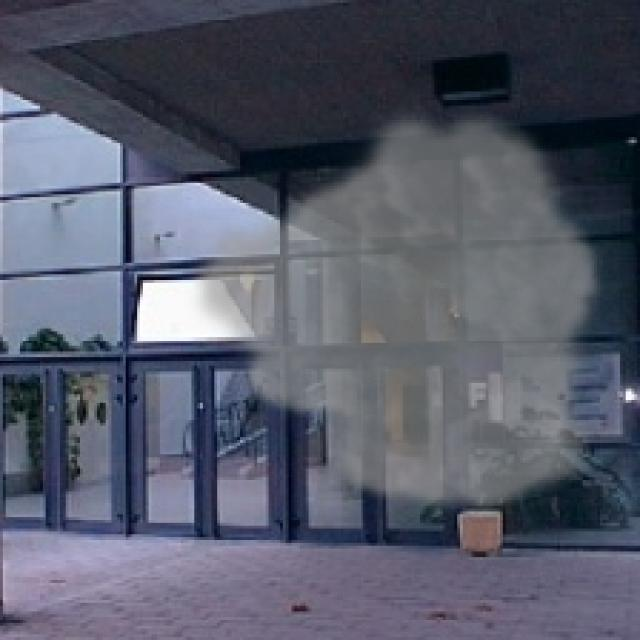smoke: (183, 100, 606, 520)
